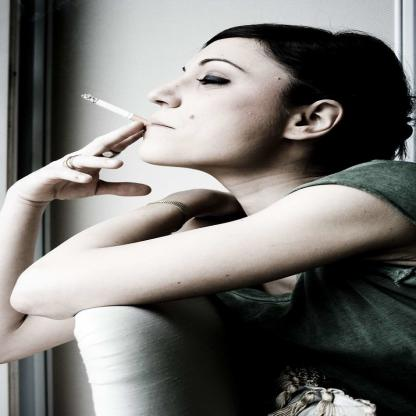smoking: (81, 94, 155, 128)
